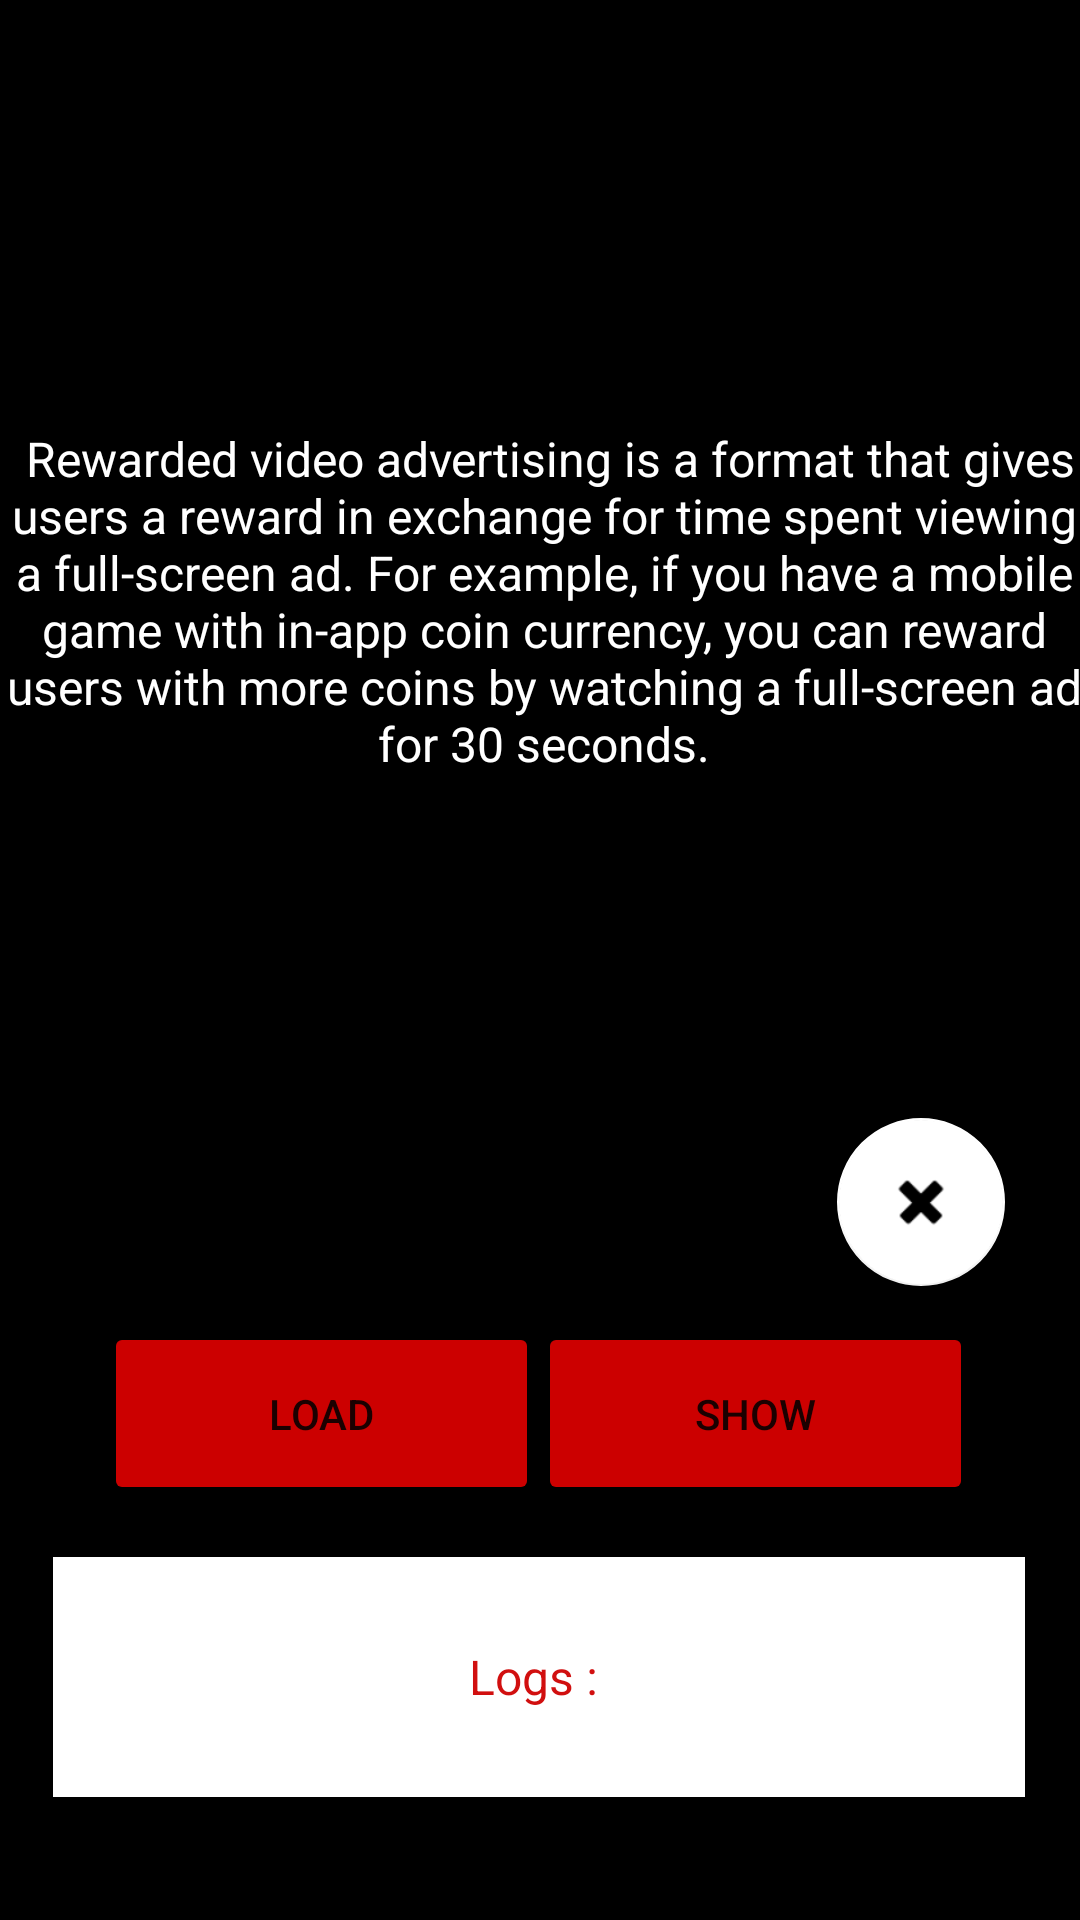

Icon bounding boxes for this 1080px x 1920px phone screenshot, format bbox(x1, y1, x2, y2):
delete: bbox(837, 1118, 1005, 1286)
